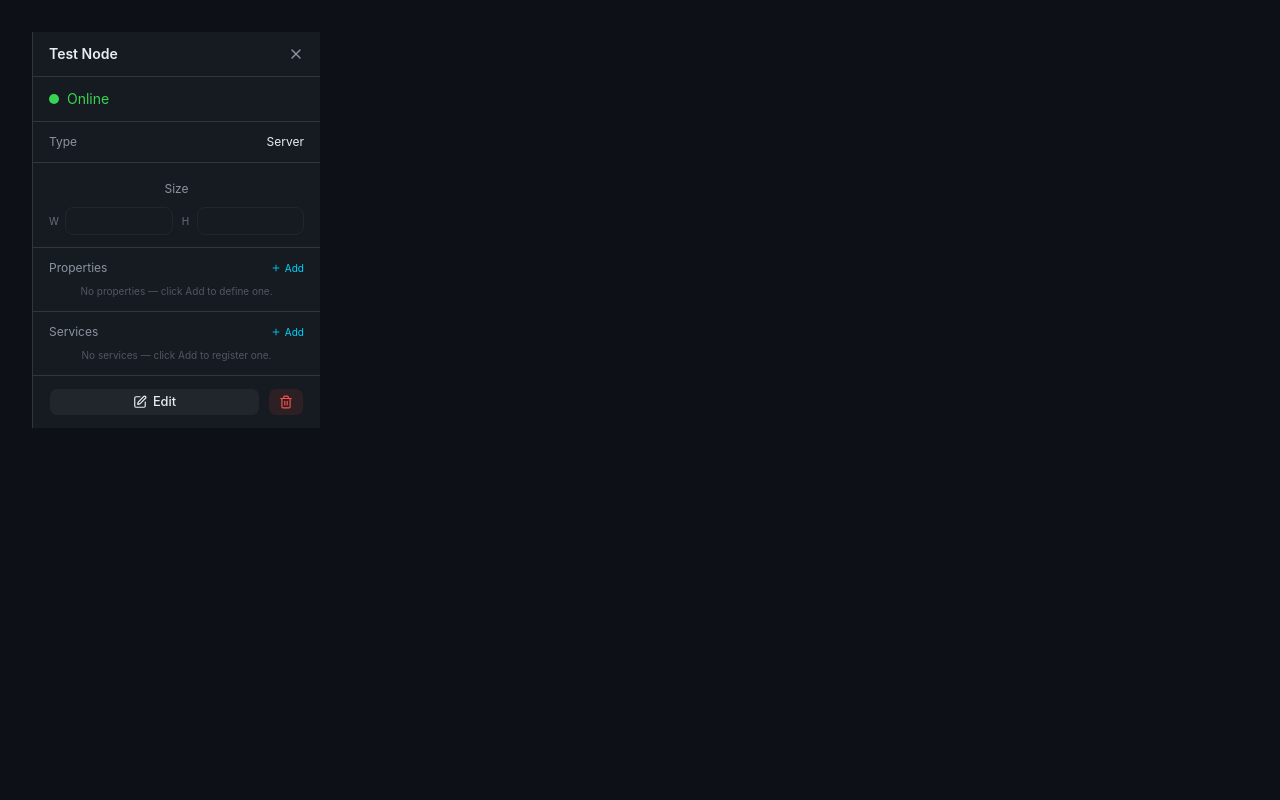
Test: DetailPanel › Services — add/remove › opens the Add Service modal when Add is clicked
Click the 2nd button "Add".
click(287, 332)  # box [271, 324, 304, 340]
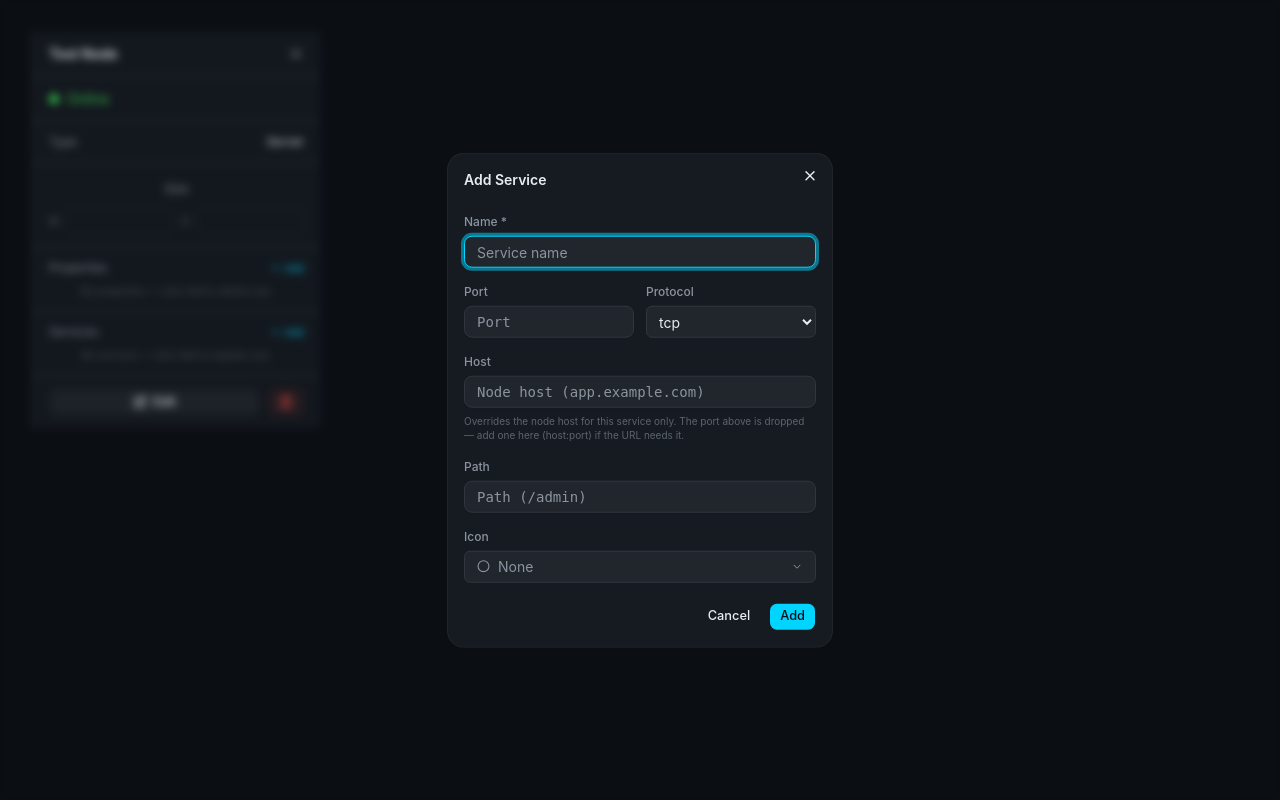
Expected: the heading "Add Service" is shown, [464, 171, 546, 188]
Expected: the field with placeholder "Service name" is shown, [464, 236, 816, 268]
